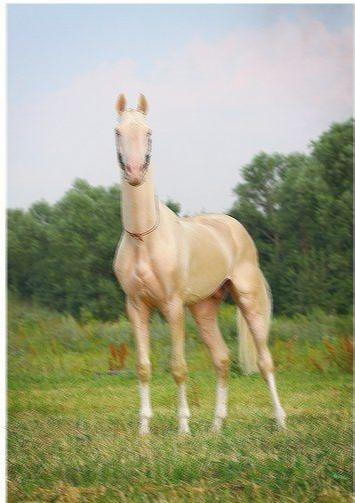horse: (111, 90, 288, 438)
